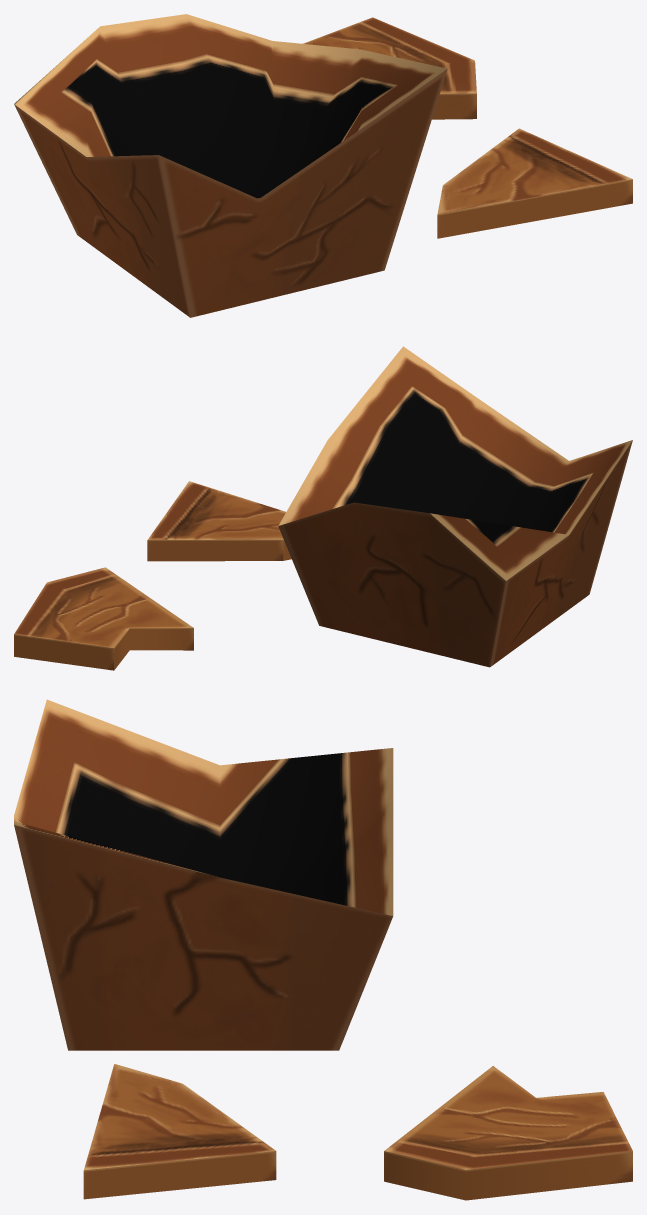
File: Vase Broken.FBX
3 renders of one model, top to bottom at view 1: azimuth 30°, elevation 25°; view 2: azimuth 150°, elevation 25°; view 3: azimuth 270°, elevation 25°, orthographic. The views are drawn at different scales.
Visible parts, largest first — view 1: Box018, Box019, Box020; view 2: Box018, Box020, Box019; view 3: Box018, Box020, Box019.
Boxes of the visible parts, left/top/right/bottom form: Box018: left=14, top=14, right=447, bottom=317; Box019: left=437, top=128, right=632, bottom=238; Box020: left=303, top=17, right=476, bottom=119; Box018: left=278, top=346, right=632, bottom=667; Box020: left=14, top=567, right=193, bottom=670; Box019: left=147, top=481, right=291, bottom=561; Box018: left=14, top=699, right=393, bottom=1050; Box020: left=384, top=1066, right=632, bottom=1200; Box019: left=83, top=1064, right=276, bottom=1199.
Size of the model in its own units: 202 by 81.94 by 184.
